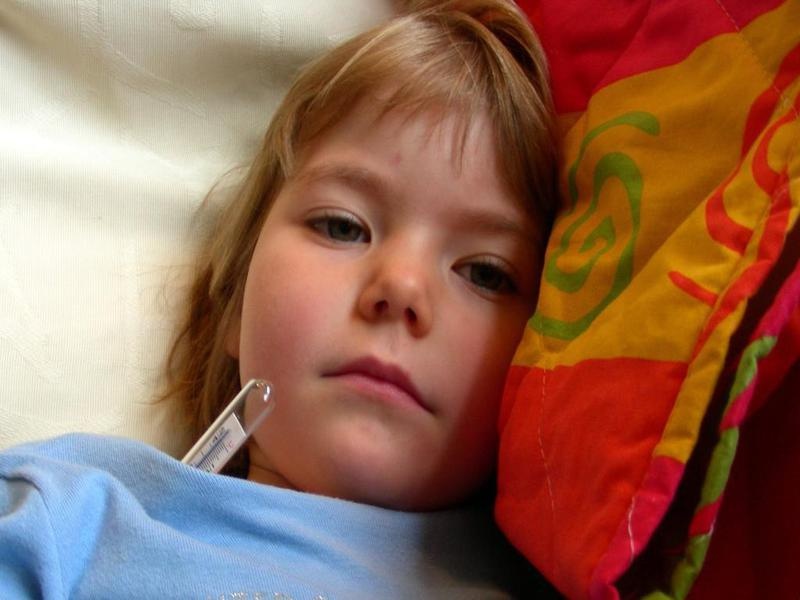person: (13, 14, 554, 600)
